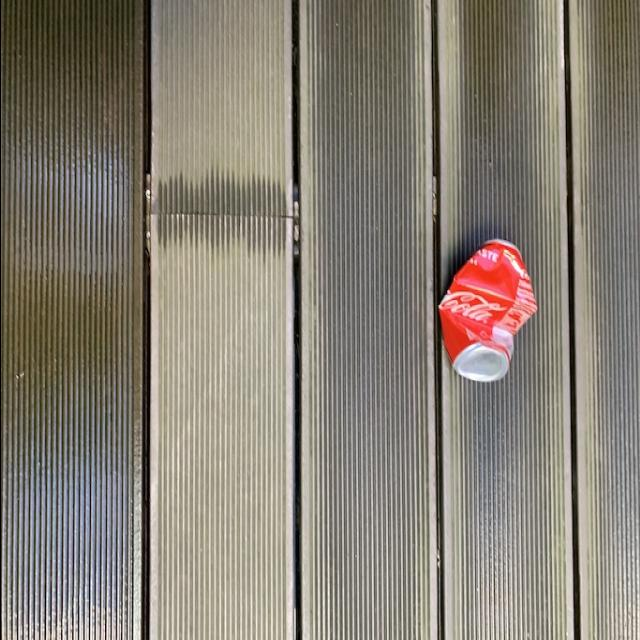Aluminum Can: (438, 237, 536, 385)
